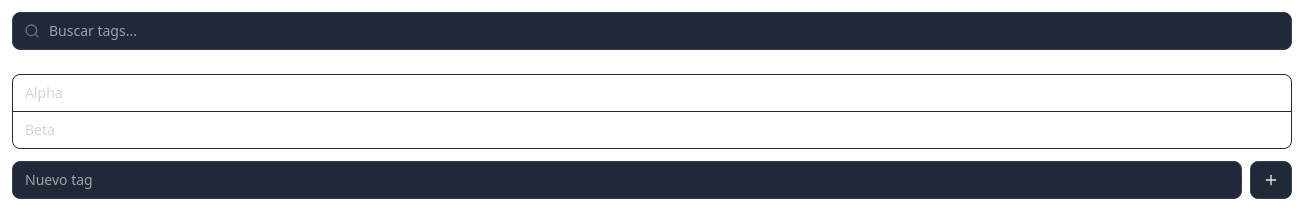
Test: TagSelector › filtra por búsqueda
This screenshot has width=1304, height=216.
In the field with placeholder "Buscar tags...": (652, 31) [12,12,1292,50], type "bet"
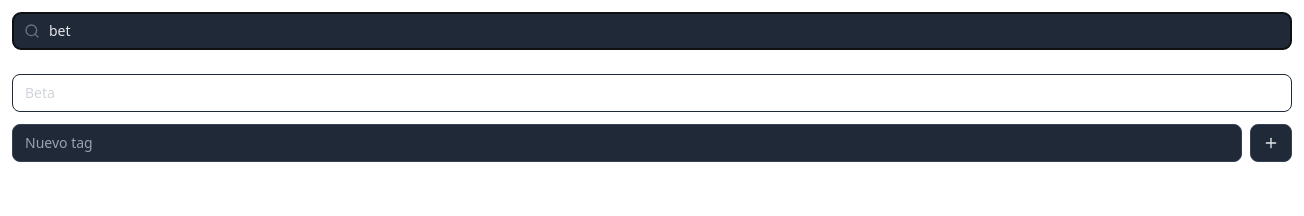
Expected: the button "Beta" is shown, [13,75,1291,111]
Result: the button "Alpha" is gone
